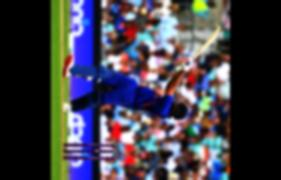batsman: (58, 46, 206, 120)
